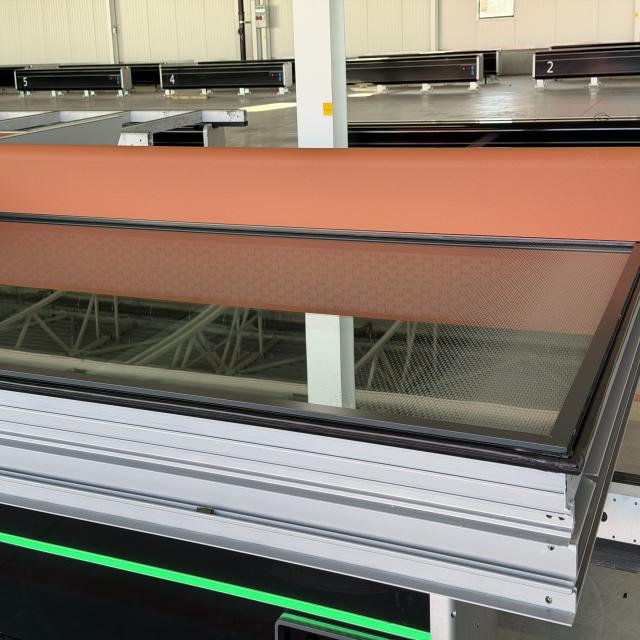ok: (2, 143, 640, 619)
